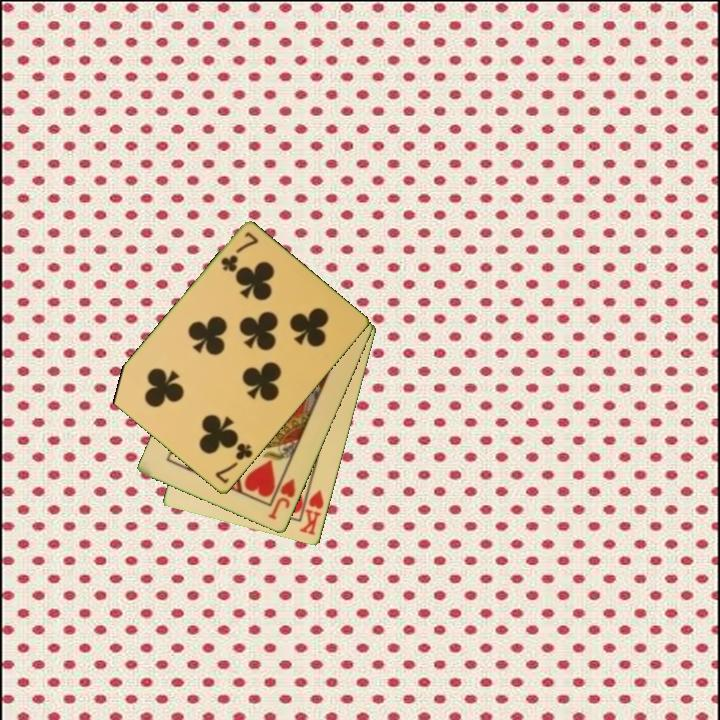7c: (212, 440, 256, 487), (217, 229, 261, 276)
Jh: (265, 468, 299, 523)
Kh: (296, 481, 327, 538)
